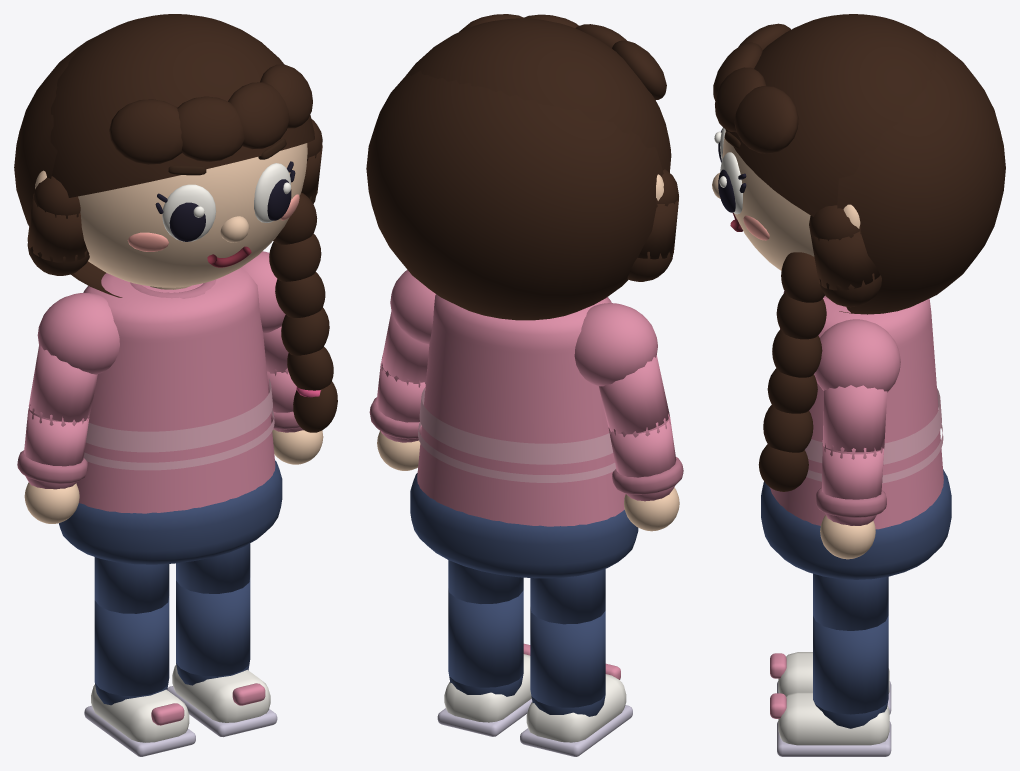
The model's file is ch_lena.fbx.
3 views of the same model, side by side, from view 1: azimuth 30°, elevation 25°; view 2: azimuth 150°, elevation 25°; view 3: azimuth 270°, elevation 25° (orthographic).
Visible parts, largest first — view 1: ch_lena; view 2: ch_lena; view 3: ch_lena.
Boxes of the visible parts, x1,y1,x2,y2 form: ch_lena: [14, 14, 337, 756]; ch_lena: [366, 14, 683, 756]; ch_lena: [712, 14, 1005, 756].
Bounding box in the file's own units: 0.6284 × 1.38 × 0.5272.
